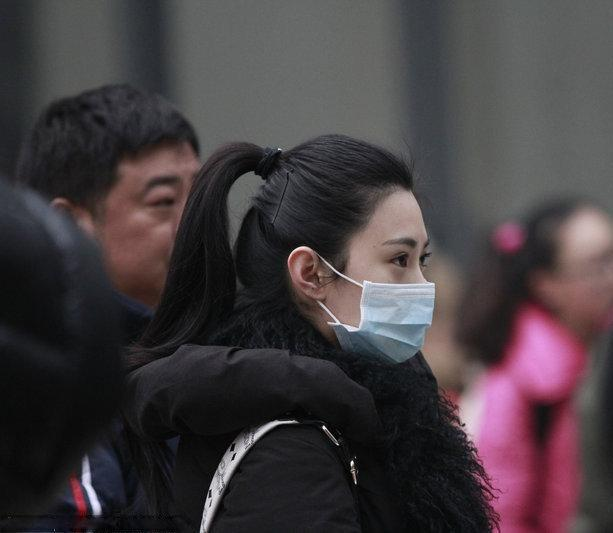NONE: (109, 156, 218, 287)
OK: (312, 228, 439, 365)
